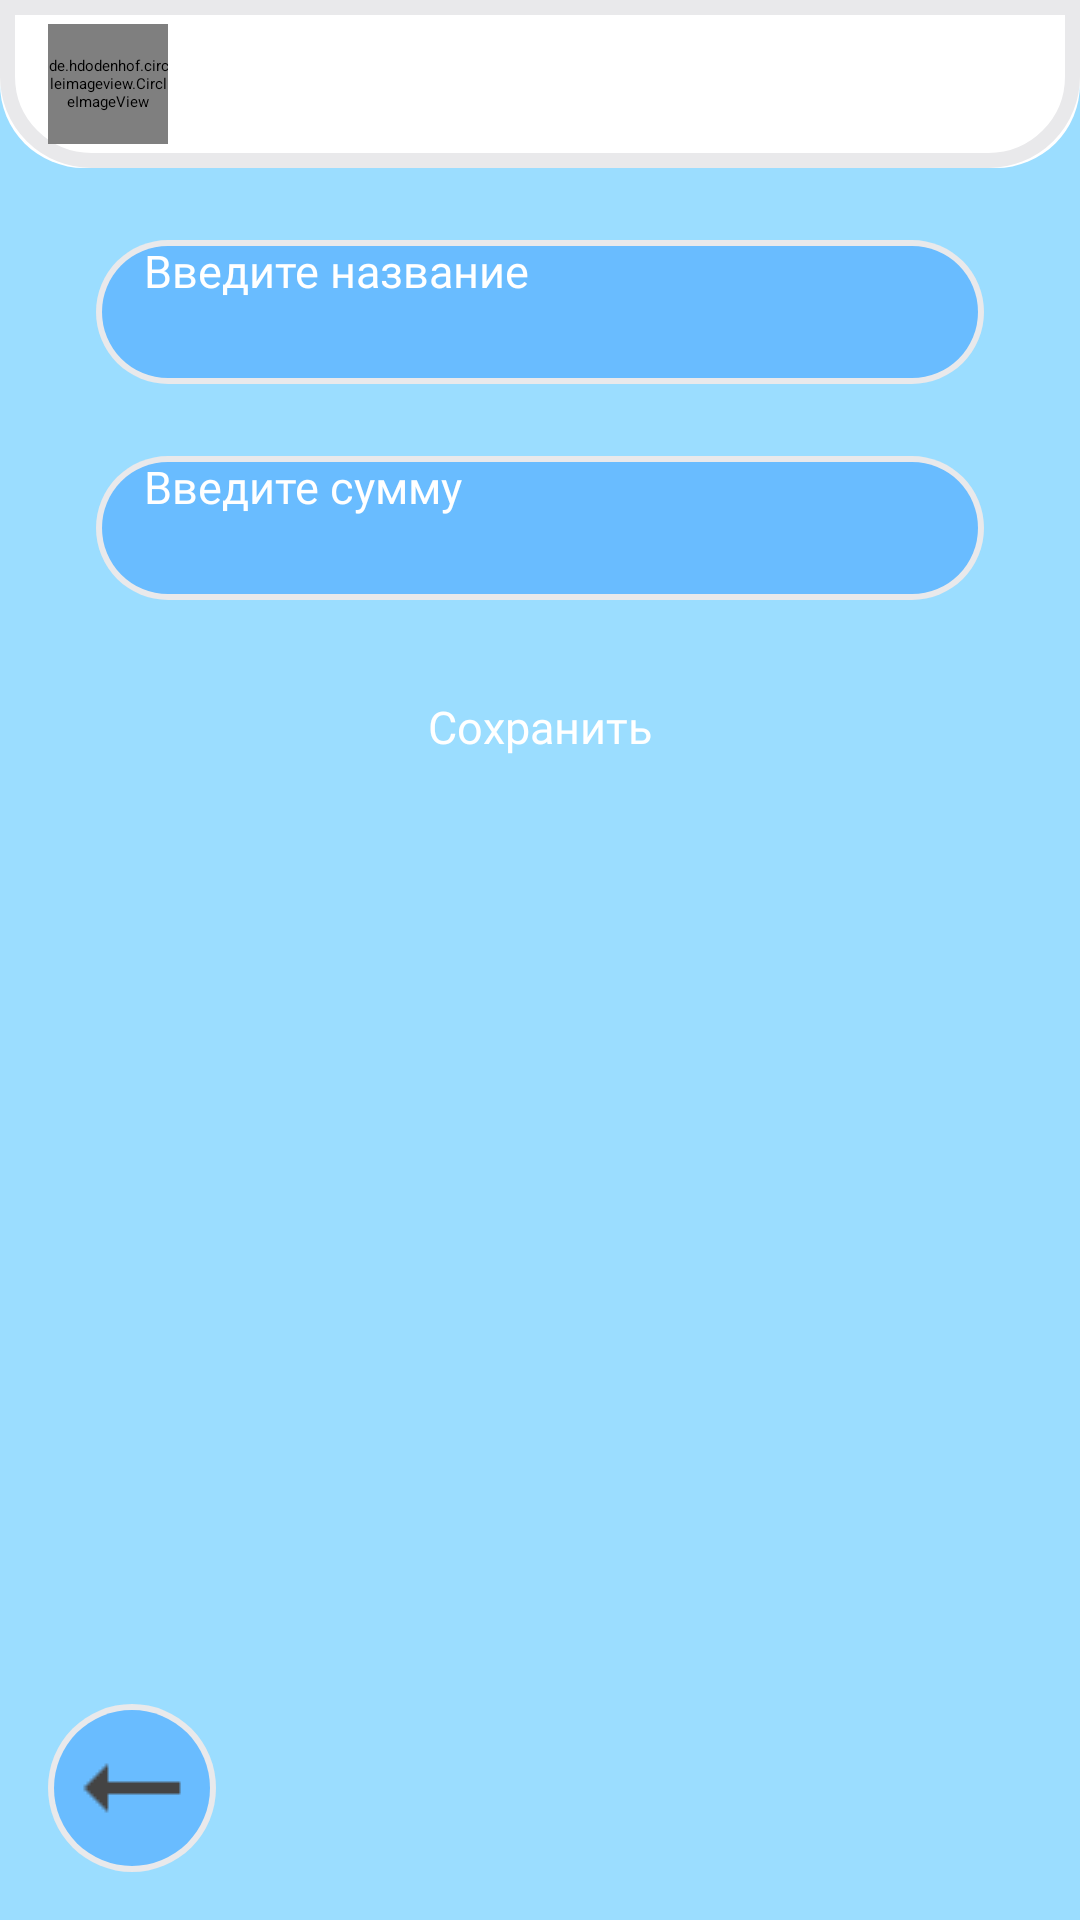

Named icons in this screenshot (1080×1920) and their bounding boxes, rect(x1, y1, x2, y2):
back: rect(48, 1704, 216, 1872)
